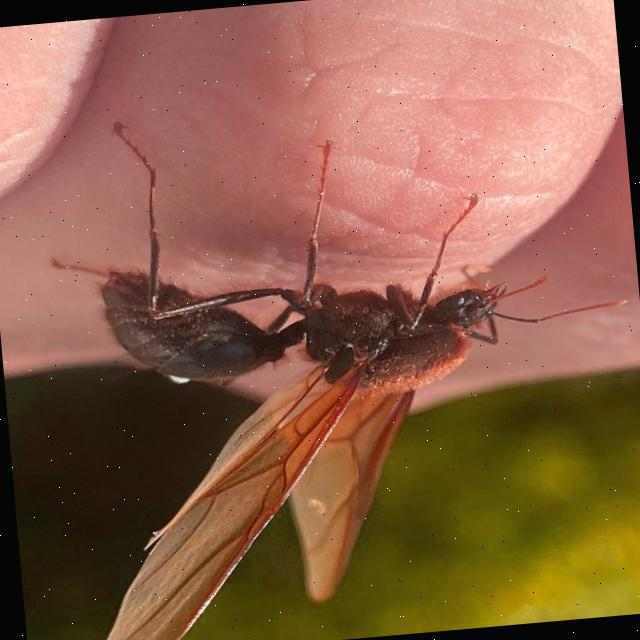Alive-Male-Alate: (39, 78, 640, 640)
